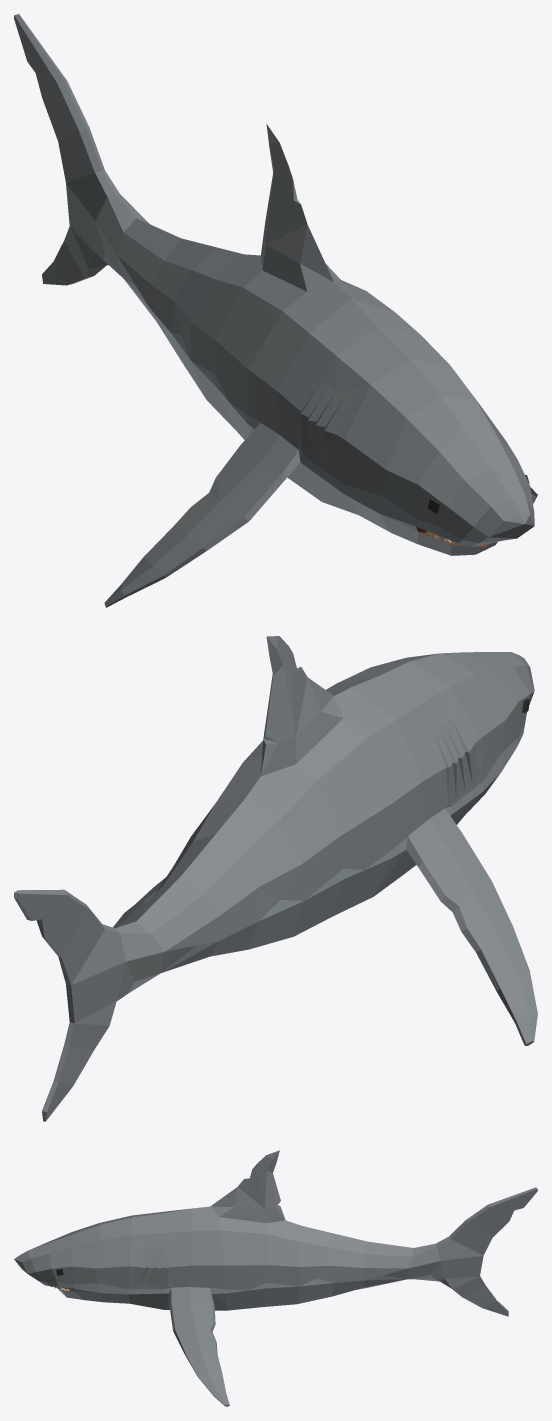
Rendered from Shark.fbx.
3 renders of one model, top to bottom at view 1: azimuth 30°, elevation 25°; view 2: azimuth 150°, elevation 25°; view 3: azimuth 270°, elevation 25°, orthographic. The views are drawn at different scales.
Parts seen in each view (by area): view 1: Shark; view 2: Shark; view 3: Shark.
Boxes of the visible parts, x1,y1,x2,y2 form: Shark: (14, 14, 537, 607); Shark: (14, 636, 537, 1121); Shark: (14, 1150, 537, 1406).
Bounding box in the file's own units: 230 × 203 × 474.
